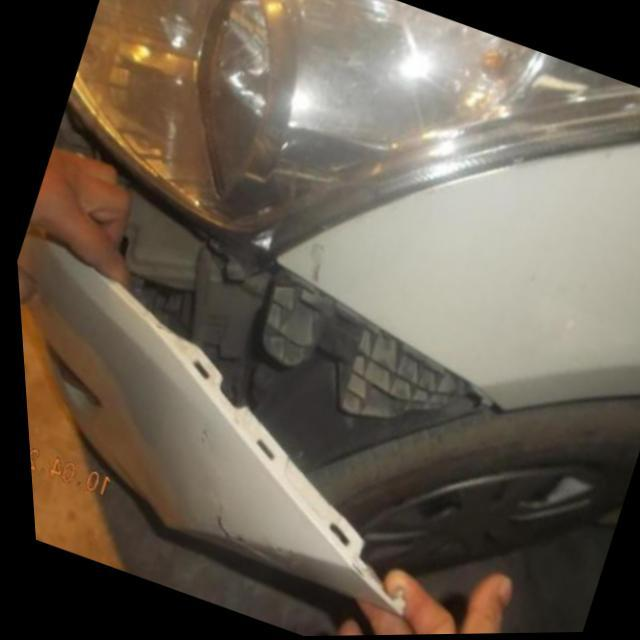dislocated part: (114, 158, 496, 598)
